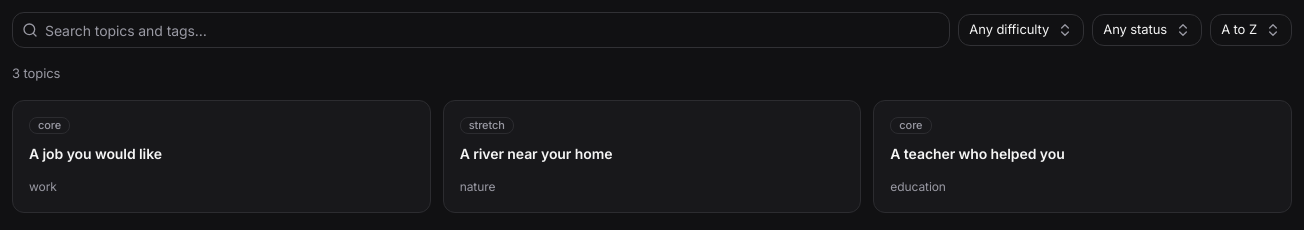
Test: the topic browser › searches the tags as well as the title, since a learner remembers the subject
The width and height of the screenshot is (1304, 230).
Step 1. Type "nature" into the field labelled "Search topics" → {"x": 481, "y": 30}, box [12, 12, 950, 48]
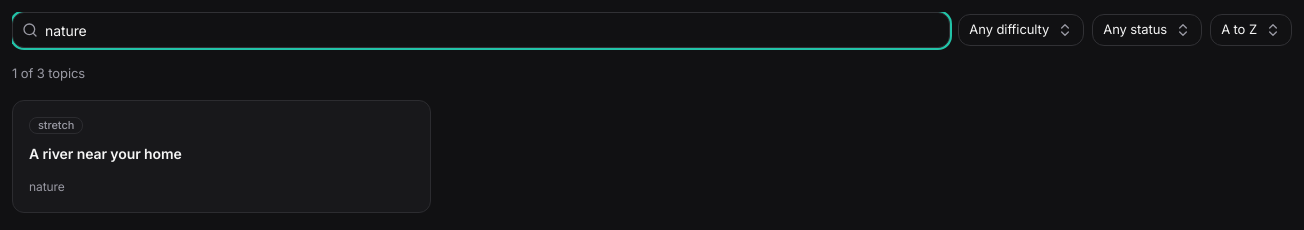
Expected: the button "stretch A river near your home nature" is shown, [12, 100, 431, 212]
Result: the text "1 of 3 topics" is shown at [12, 65, 85, 81]
Result: the button "A job you would like" is gone
